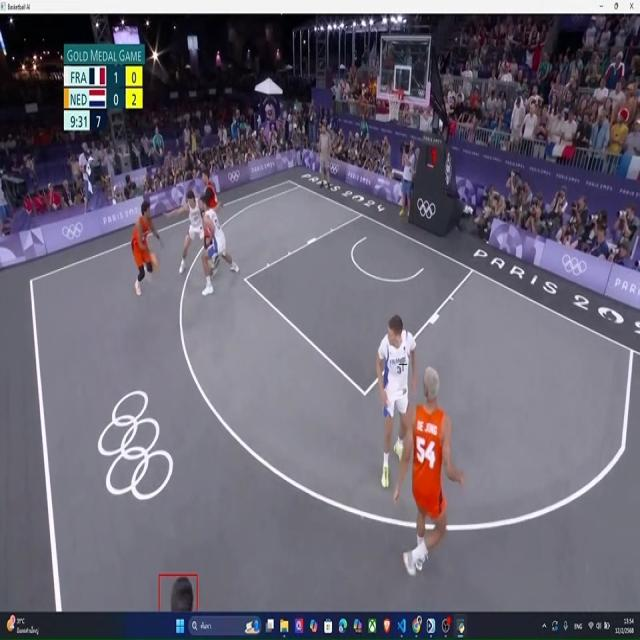hoop: (387, 86, 402, 122)
